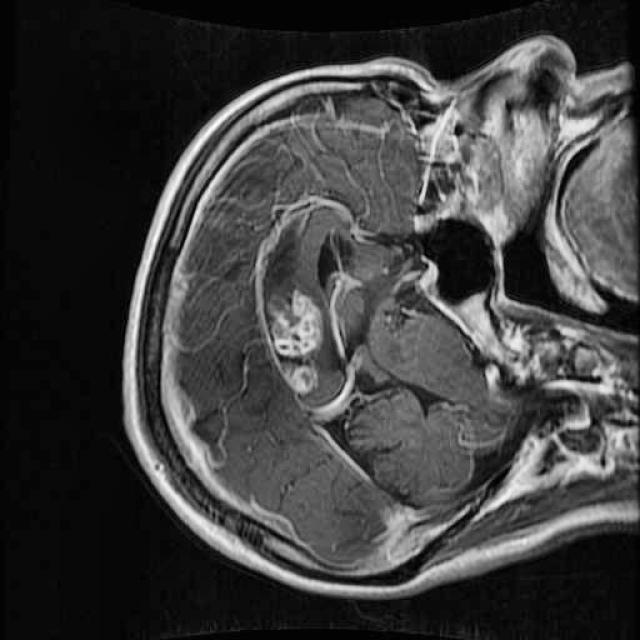Non-Tumor: (255, 269, 344, 411)
